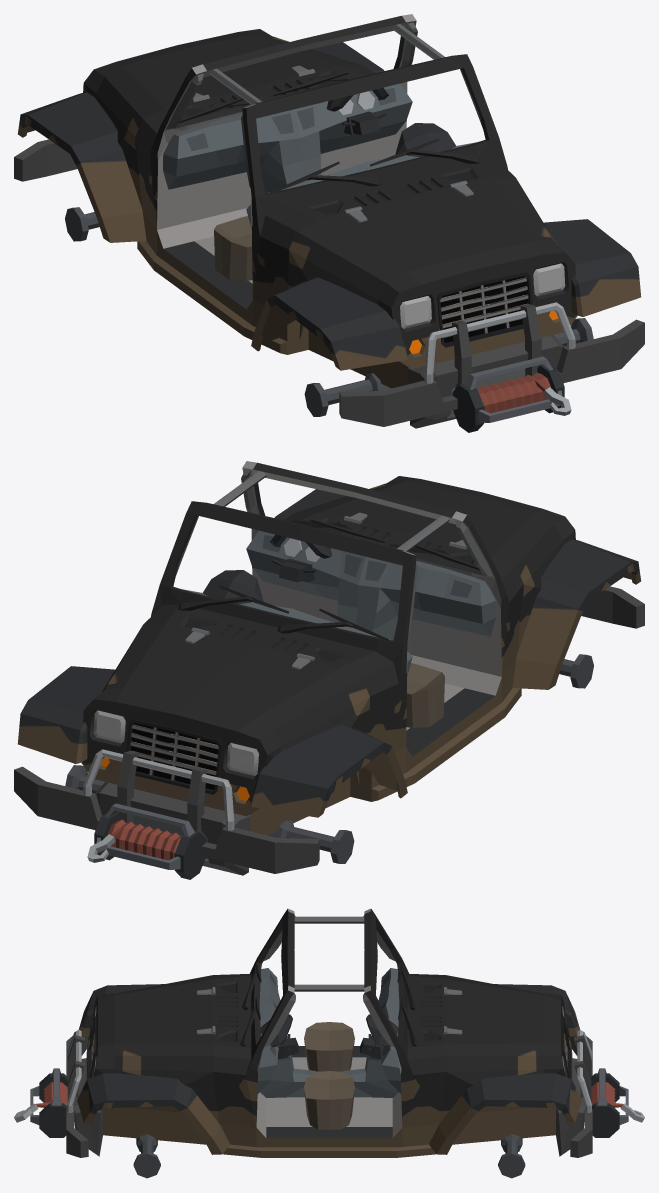
File: aaaa 1.fbx
The picture shows the model from 3 angles, top to bottom: view 1: azimuth 30°, elevation 25°; view 2: azimuth 150°, elevation 25°; view 3: azimuth 270°, elevation 25°; orthographic projection. The views are drawn at different scales.
Parts seen in each view (by area): view 1: SK_Veh_4x4_Car_Alt_01_positive; view 2: SK_Veh_4x4_Car_Alt_01_positive; view 3: SK_Veh_4x4_Car_Alt_01_positive.
Part boxes in pixels (x1,y1,x2,y2): SK_Veh_4x4_Car_Alt_01_positive: [14, 14, 644, 432]; SK_Veh_4x4_Car_Alt_01_positive: [14, 461, 644, 879]; SK_Veh_4x4_Car_Alt_01_positive: [14, 908, 644, 1178].
Size of the model in its own units: 228 by 169 by 522.
